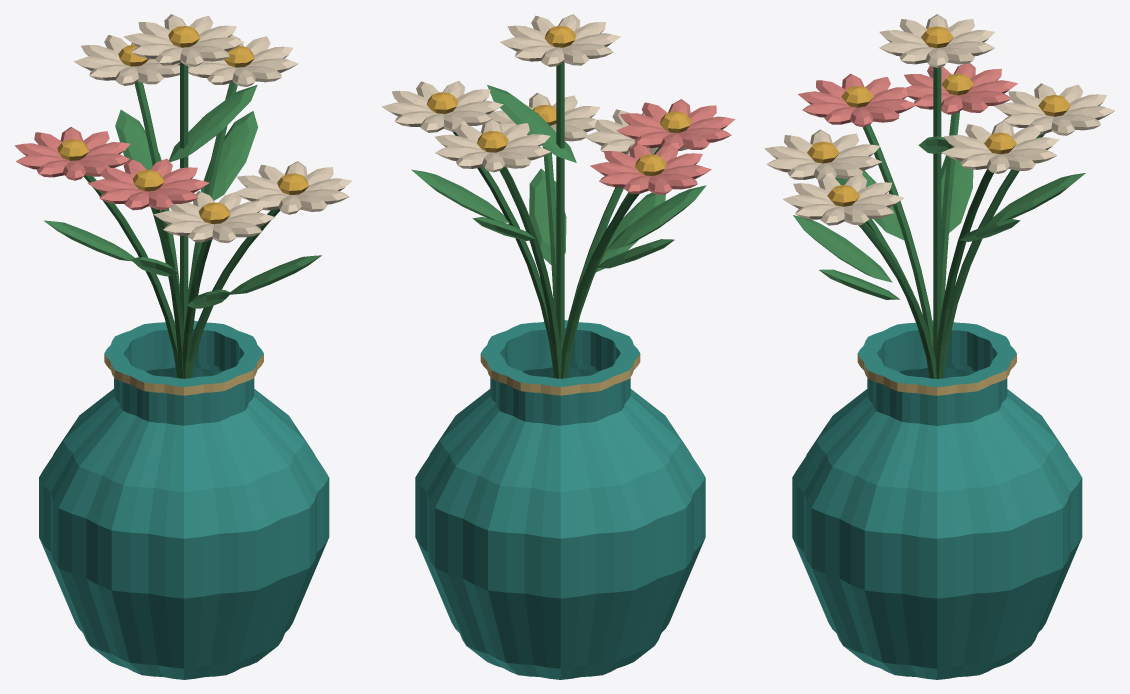
The model's file is Celadon-Daisies.glb.
3 views of the same model, side by side, from view 1: azimuth 30°, elevation 25°; view 2: azimuth 150°, elevation 25°; view 3: azimuth 270°, elevation 25° (orthographic).
Bounding box in the file's own units: 0.143 × 0.288 × 0.1491.
